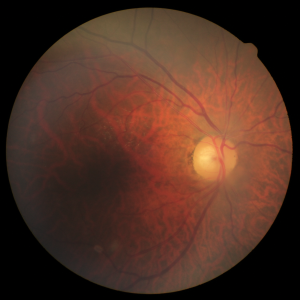glaucoma: (71, 90, 266, 217)
